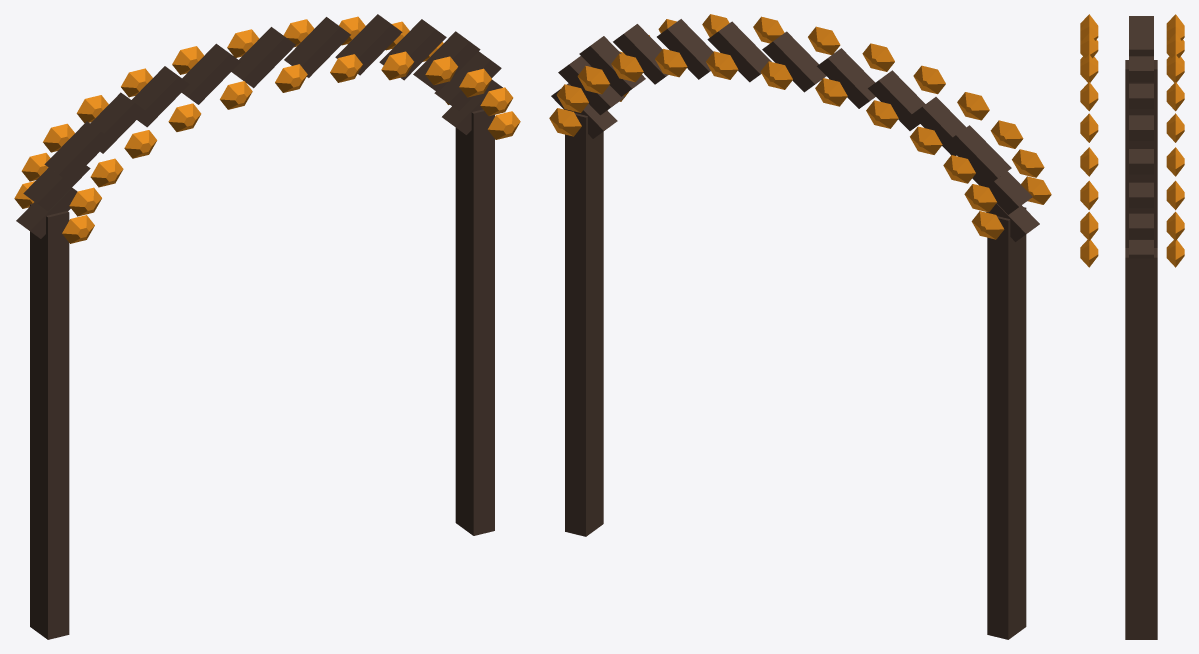
Rendered from ofrenda_arch.glb.
The picture shows the model from 3 angles, left to right: view 1: azimuth 30°, elevation 25°; view 2: azimuth 150°, elevation 25°; view 3: azimuth 270°, elevation 25°; orthographic projection. The views are drawn at different scales.
Parts seen in each view (by area): view 1: Poste carrizo, Poste carrizo.001, Carrizo.006, Carrizo.007, Carrizo.005, Carrizo.002, Carrizo.004, Carrizo.008, Carrizo.001, Carrizo.003, Carrizo.009, Carrizo.010 (+3 smaller); view 2: Poste carrizo, Poste carrizo.001, Carrizo.006, Carrizo.007, Carrizo.005, Carrizo.002, Carrizo.008, Carrizo.004, Carrizo.003, Carrizo.009, Carrizo.001, Carrizo.010 (+3 smaller); view 3: Poste carrizo.001, Poste carrizo, Carrizo.007, Carrizo.010, Carrizo.011, Carrizo.006, Carrizo.008, Carrizo.009, Carrizo.005, Carrizo.012, Flor.019, Flor.014 (+17 smaller).
Boxes of the visible parts, x1,y1,x2,y2 form: Poste carrizo: (30, 204, 69, 639); Poste carrizo.001: (455, 109, 494, 535); Carrizo.006: (231, 27, 295, 88); Carrizo.007: (284, 17, 350, 77); Carrizo.005: (181, 43, 240, 104); Carrizo.002: (44, 121, 111, 181); Carrizo.004: (131, 66, 189, 127); Carrizo.008: (335, 14, 402, 75); Carrizo.001: (23, 160, 90, 211); Carrizo.003: (90, 92, 145, 153); Carrizo.009: (379, 19, 446, 80); Carrizo.010: (413, 31, 480, 92); Poste carrizo: (987, 207, 1026, 639); Poste carrizo.001: (565, 113, 603, 536); Carrizo.006: (762, 31, 826, 92); Carrizo.007: (707, 21, 771, 82); Carrizo.005: (817, 48, 875, 108); Carrizo.002: (945, 125, 1011, 185); Carrizo.008: (657, 19, 713, 79); Carrizo.004: (868, 70, 925, 130); Carrizo.003: (911, 97, 966, 155); Carrizo.009: (613, 24, 668, 84); Carrizo.001: (972, 164, 1032, 214); Carrizo.010: (579, 36, 645, 96); Poste carrizo.001: (1125, 248, 1157, 639); Poste carrizo: (1125, 60, 1157, 247); Carrizo.007: (1129, 83, 1153, 109); Carrizo.010: (1129, 182, 1153, 208); Carrizo.011: (1129, 213, 1153, 239); Carrizo.006: (1129, 56, 1153, 81); Carrizo.008: (1129, 115, 1153, 140); Carrizo.009: (1129, 149, 1153, 174); Carrizo.005: (1129, 35, 1153, 56); Carrizo.012: (1129, 240, 1153, 258); Flor.019: (1166, 147, 1184, 176); Flor.014: (1080, 82, 1098, 111).
Size of the model in its own units: 2.4 by 2.6 by 0.5.
